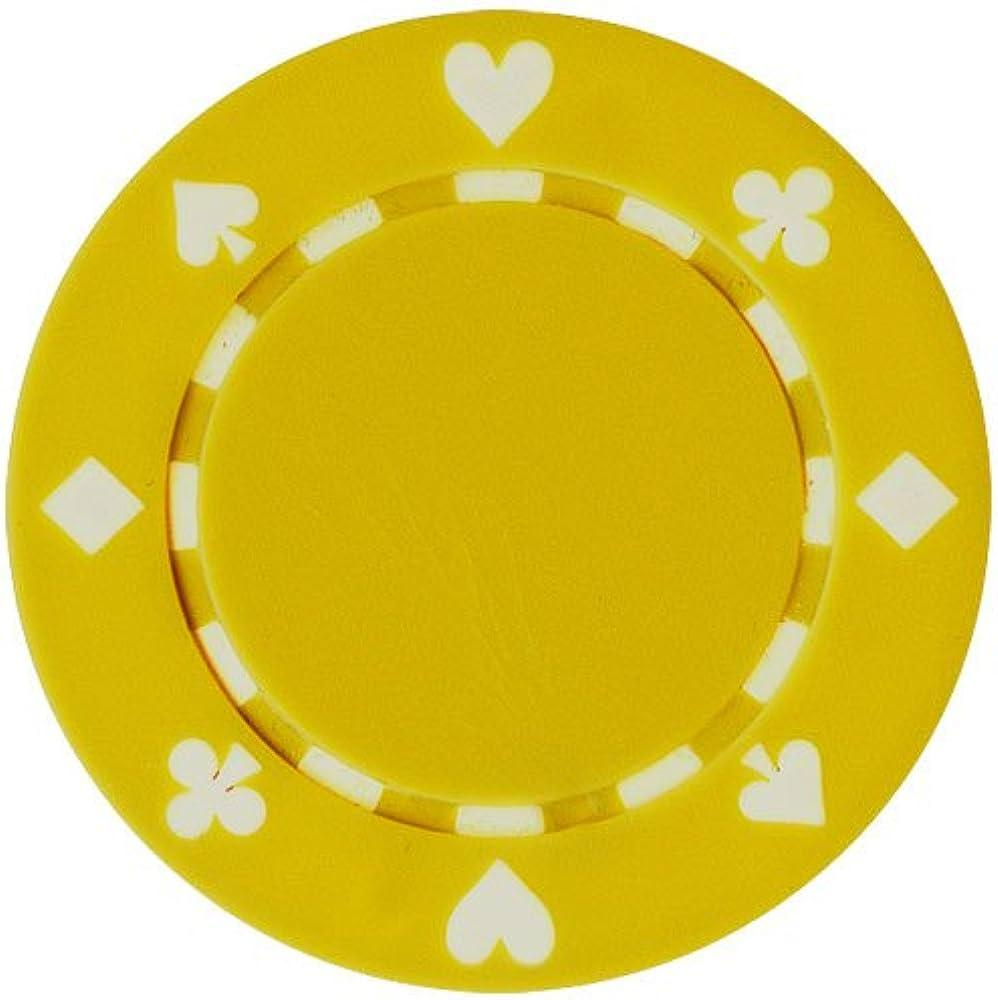chip-yellow: (8, 12, 990, 989)
